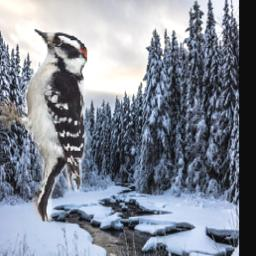Woodpecker: (0, 25, 89, 221)
